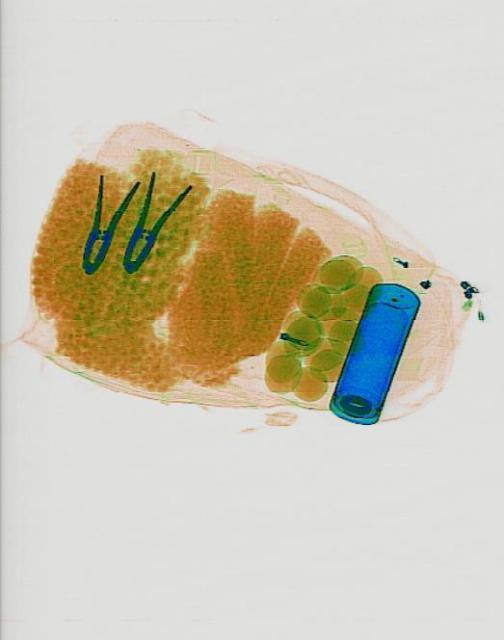Pliers: (107, 161, 190, 281), (65, 164, 138, 280)
